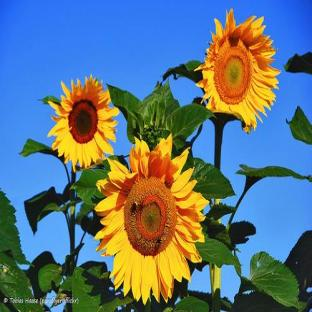sunflower: (193, 8, 280, 170), (19, 75, 120, 185)
